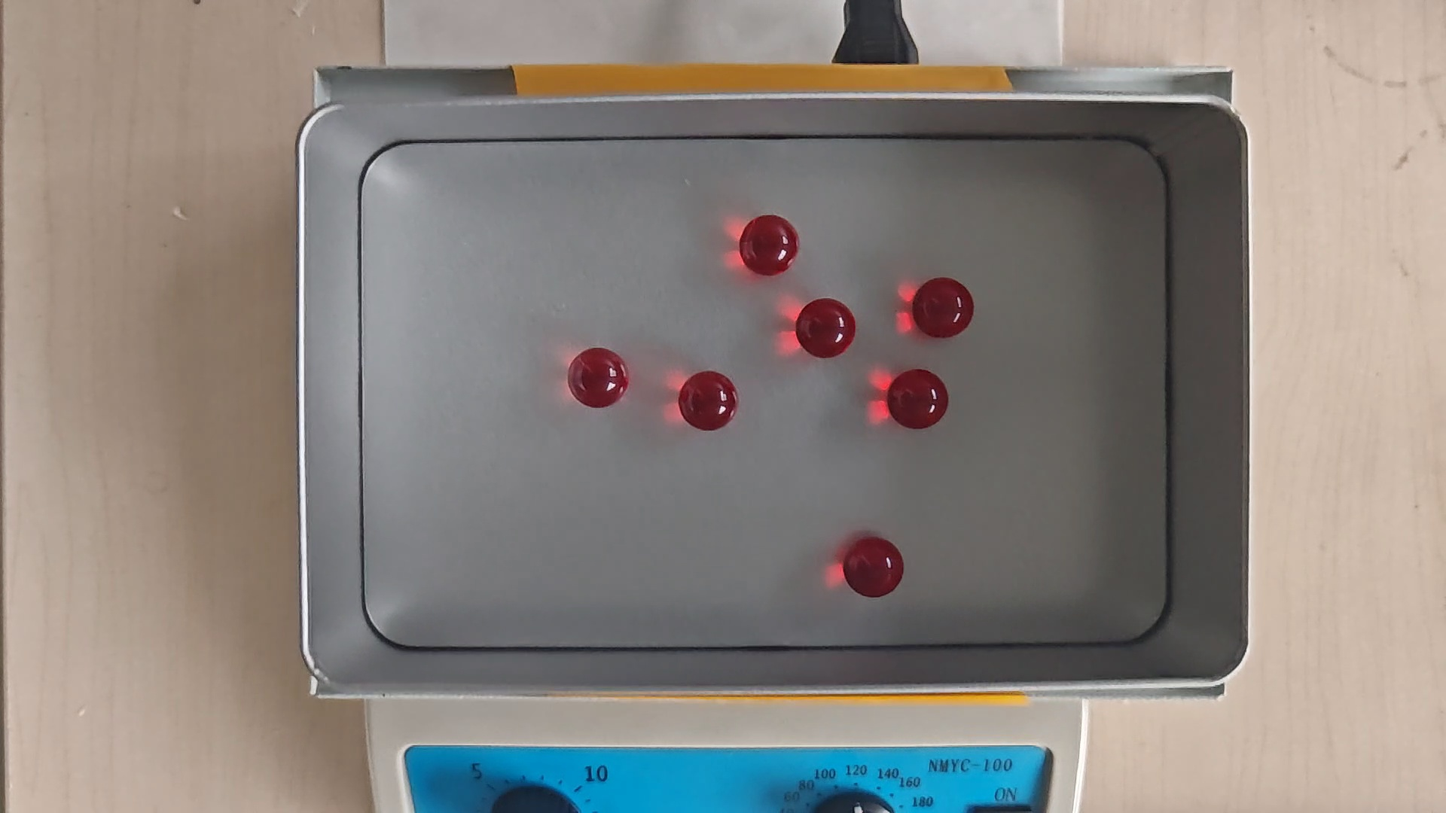ball: (885, 368, 949, 431), (842, 537, 905, 599), (913, 277, 975, 340), (568, 346, 629, 410), (739, 215, 801, 277), (795, 297, 857, 359), (678, 371, 738, 432)
container: (359, 136, 1170, 647)
